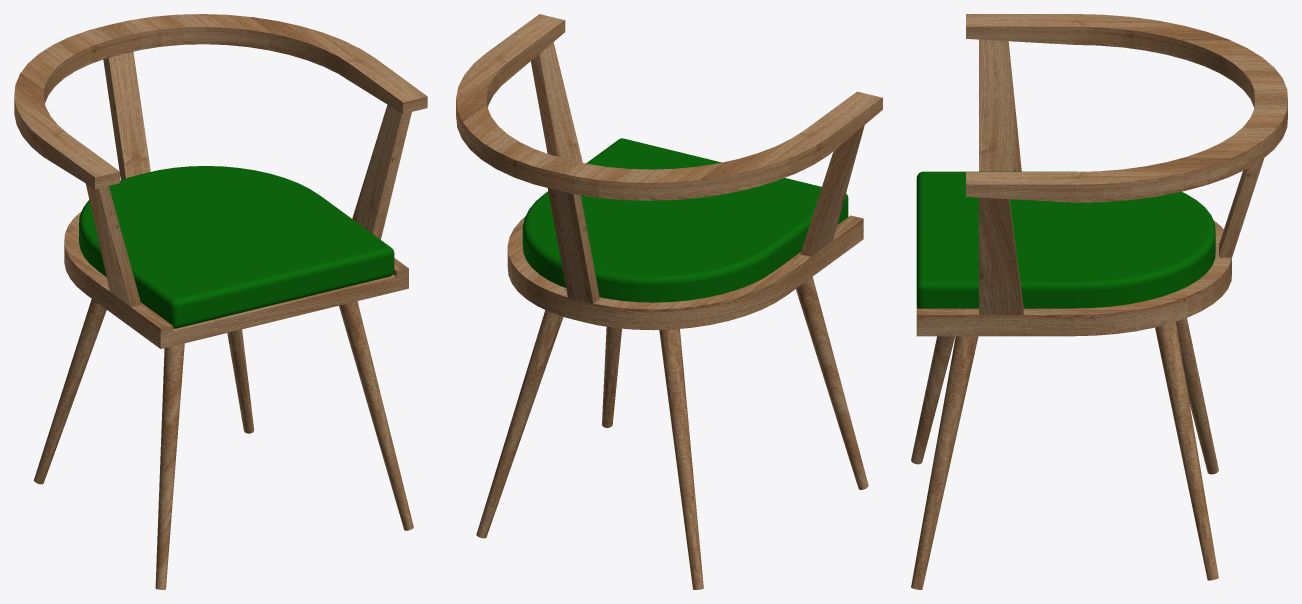
The model's file is chair_1.glb.
3 views of the same model, side by side, from view 1: azimuth 30°, elevation 25°; view 2: azimuth 150°, elevation 25°; view 3: azimuth 270°, elevation 25° (orthographic). The views are drawn at different scales.
Parts seen in each view (by area): view 1: root; view 2: root; view 3: root.
Boxes of the visible parts, x1=… form: root: x1=14, y1=14, x2=427, y2=589; root: x1=456, y1=14, x2=882, y2=589; root: x1=911, y1=14, x2=1287, y2=589.
Bounding box in the file's own units: 0.6 × 0.7 × 0.56.
Materials: 2 (1 with a texture image).
